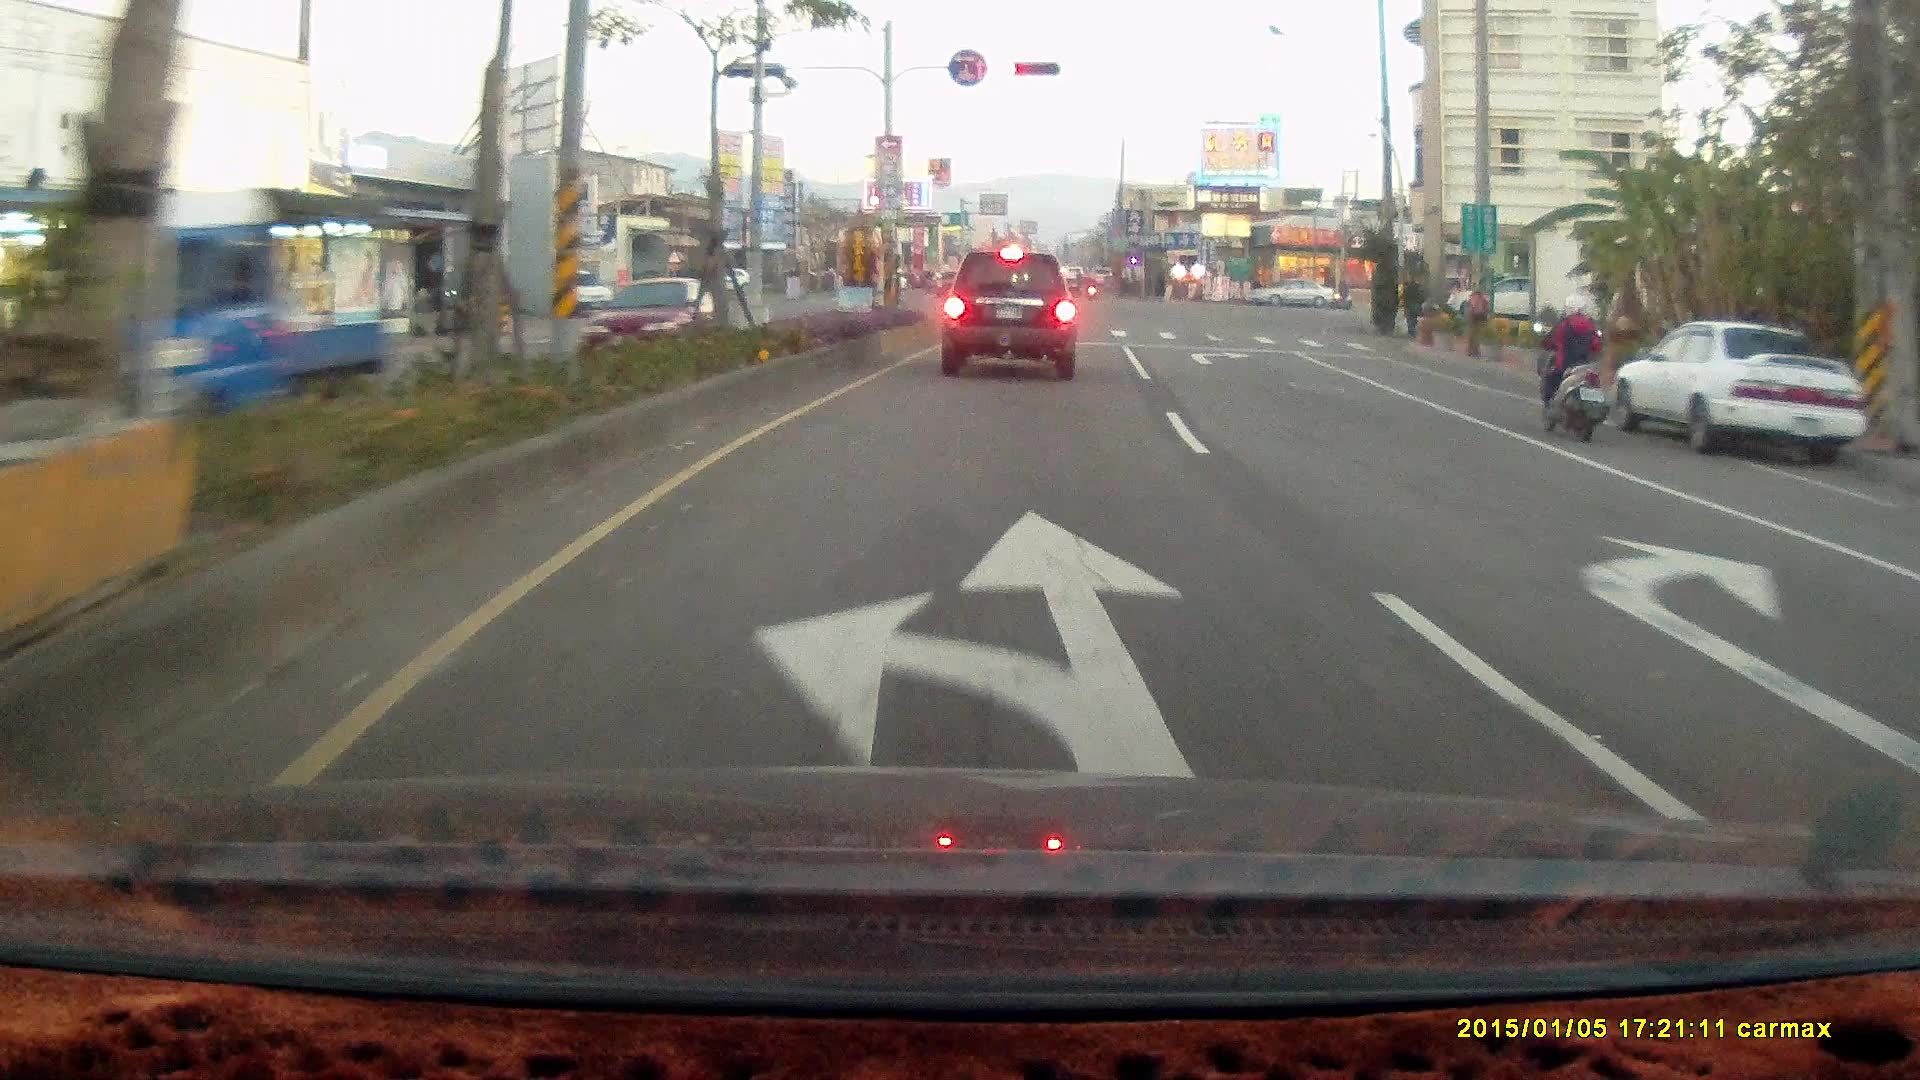rider: (1530, 290, 1612, 441), (1326, 273, 1352, 310)
vehicle: (35, 179, 388, 457), (1603, 317, 1871, 467), (1605, 324, 1876, 468), (939, 251, 1078, 383), (1896, 493, 1920, 836), (1883, 528, 1920, 690), (1446, 273, 1560, 324), (1241, 277, 1339, 311), (1244, 275, 1336, 309)
